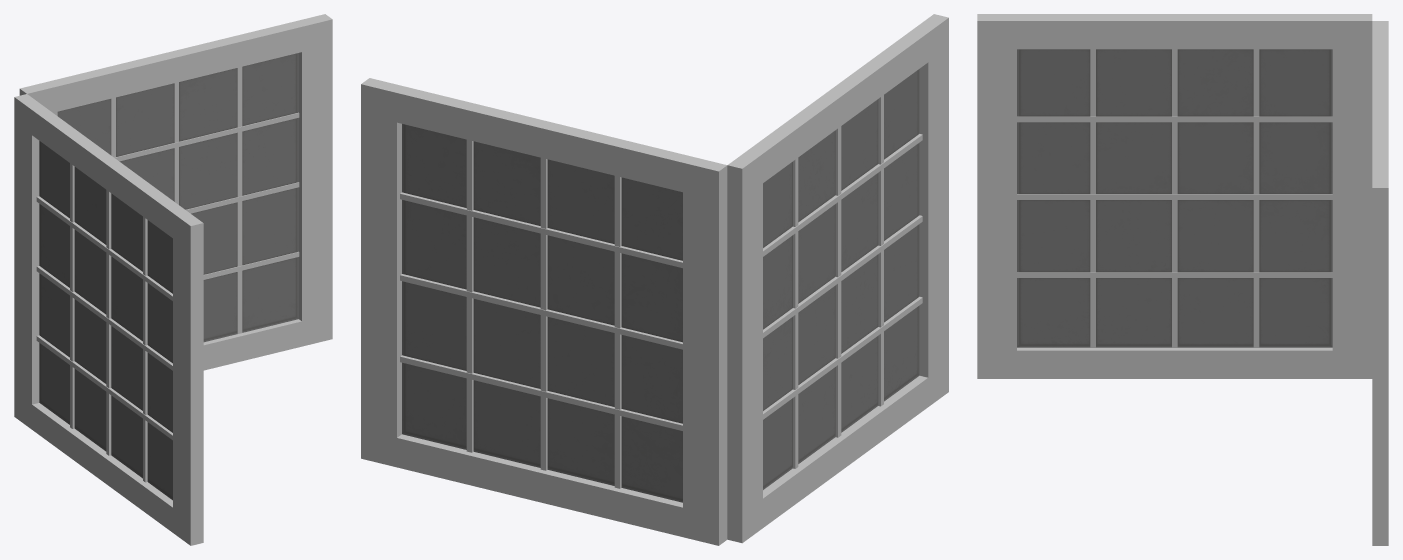
The model's file is SM_WindowA_01_Corner.FBX.
3 renders of one model, left to right at view 1: azimuth 30°, elevation 25°; view 2: azimuth 150°, elevation 25°; view 3: azimuth 270°, elevation 25°, orthographic. The views are drawn at different scales.
Visible parts, largest first — view 1: SM_WindowA_01_Corner; view 2: SM_WindowA_01_Corner; view 3: SM_WindowA_01_Corner.
Part boxes in pixels (x1,y1,x2,y2): SM_WindowA_01_Corner: [14, 14, 332, 545]; SM_WindowA_01_Corner: [361, 14, 948, 545]; SM_WindowA_01_Corner: [977, 14, 1388, 545].
Bounding box in the file's own units: 312 × 313 × 300.
